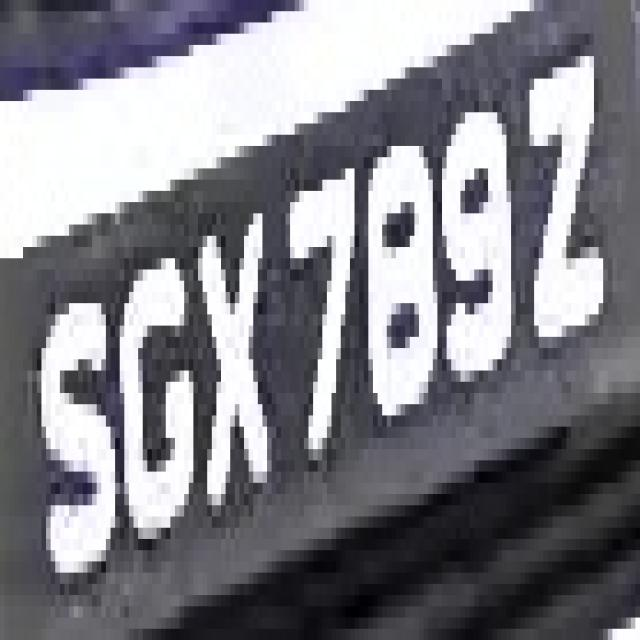7: (272, 124, 350, 472)
8: (345, 112, 447, 438)
9: (424, 79, 530, 404)
G: (110, 258, 202, 573)
S: (14, 258, 120, 584)
X: (189, 191, 276, 528)
Z: (520, 34, 612, 359)
